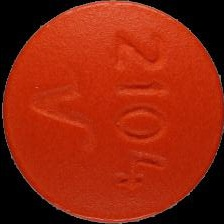50436-3075: (0, 0, 224, 224)
